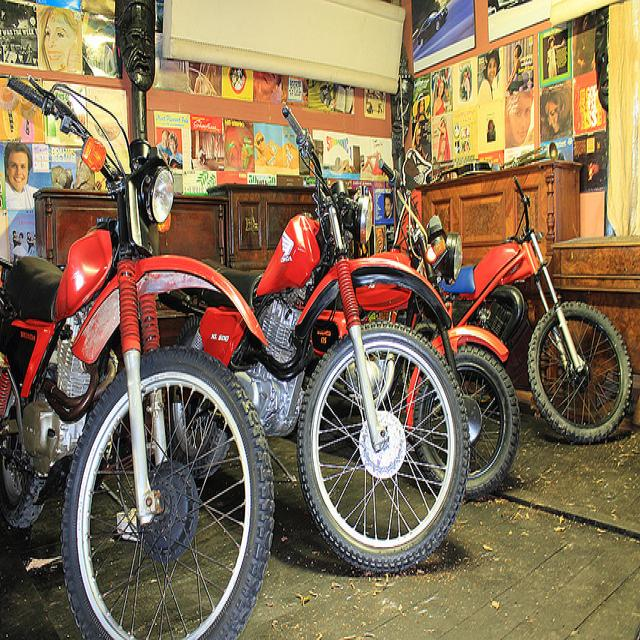motor: (2, 72, 274, 631), (253, 102, 471, 572), (389, 177, 631, 445), (351, 157, 523, 500)
